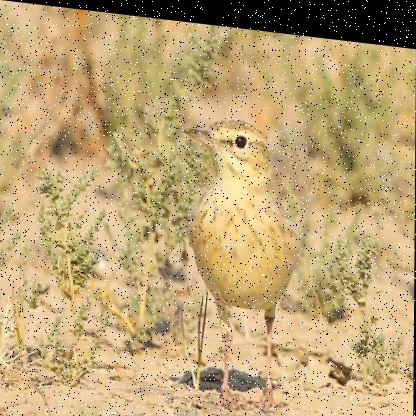Burung: (178, 107, 302, 407)
